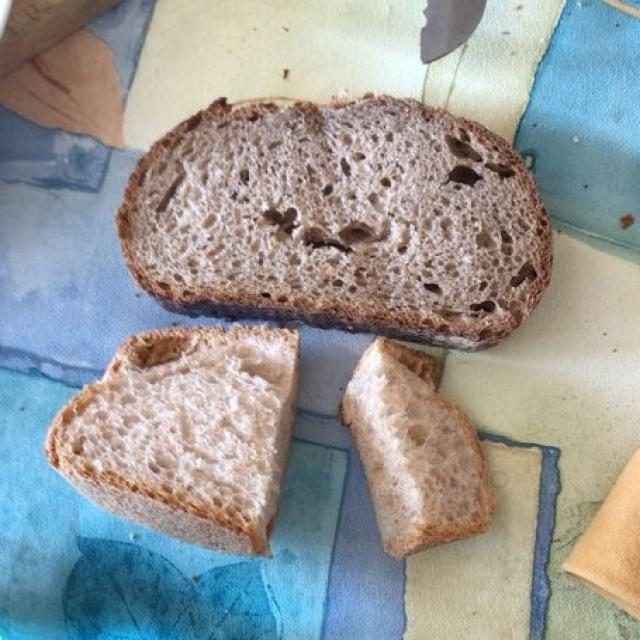bread: (70, 117, 558, 568)
